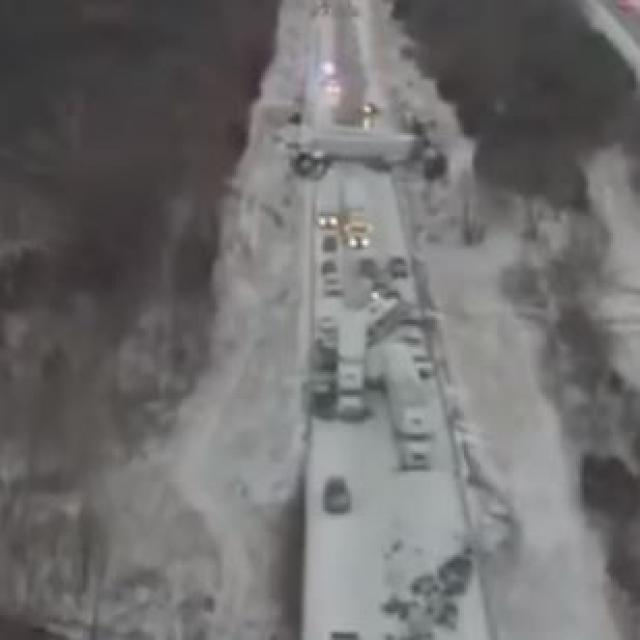traffic_incident: (327, 274, 462, 457), (267, 96, 425, 185)
